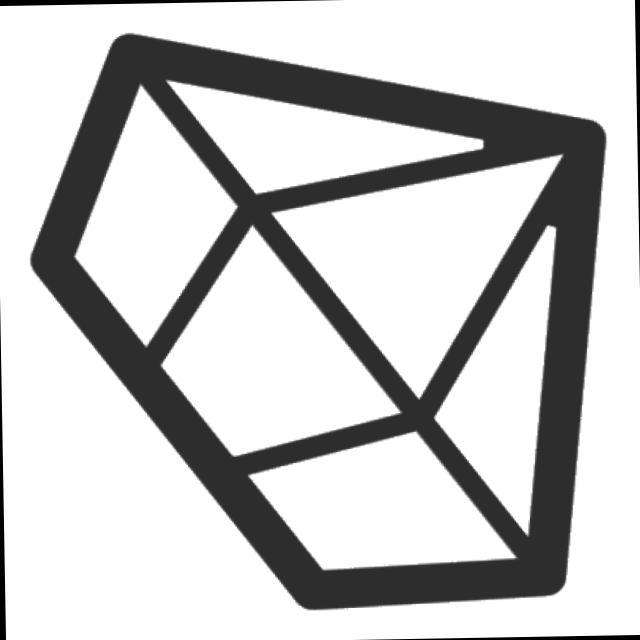diamond: (13, 14, 623, 626)
